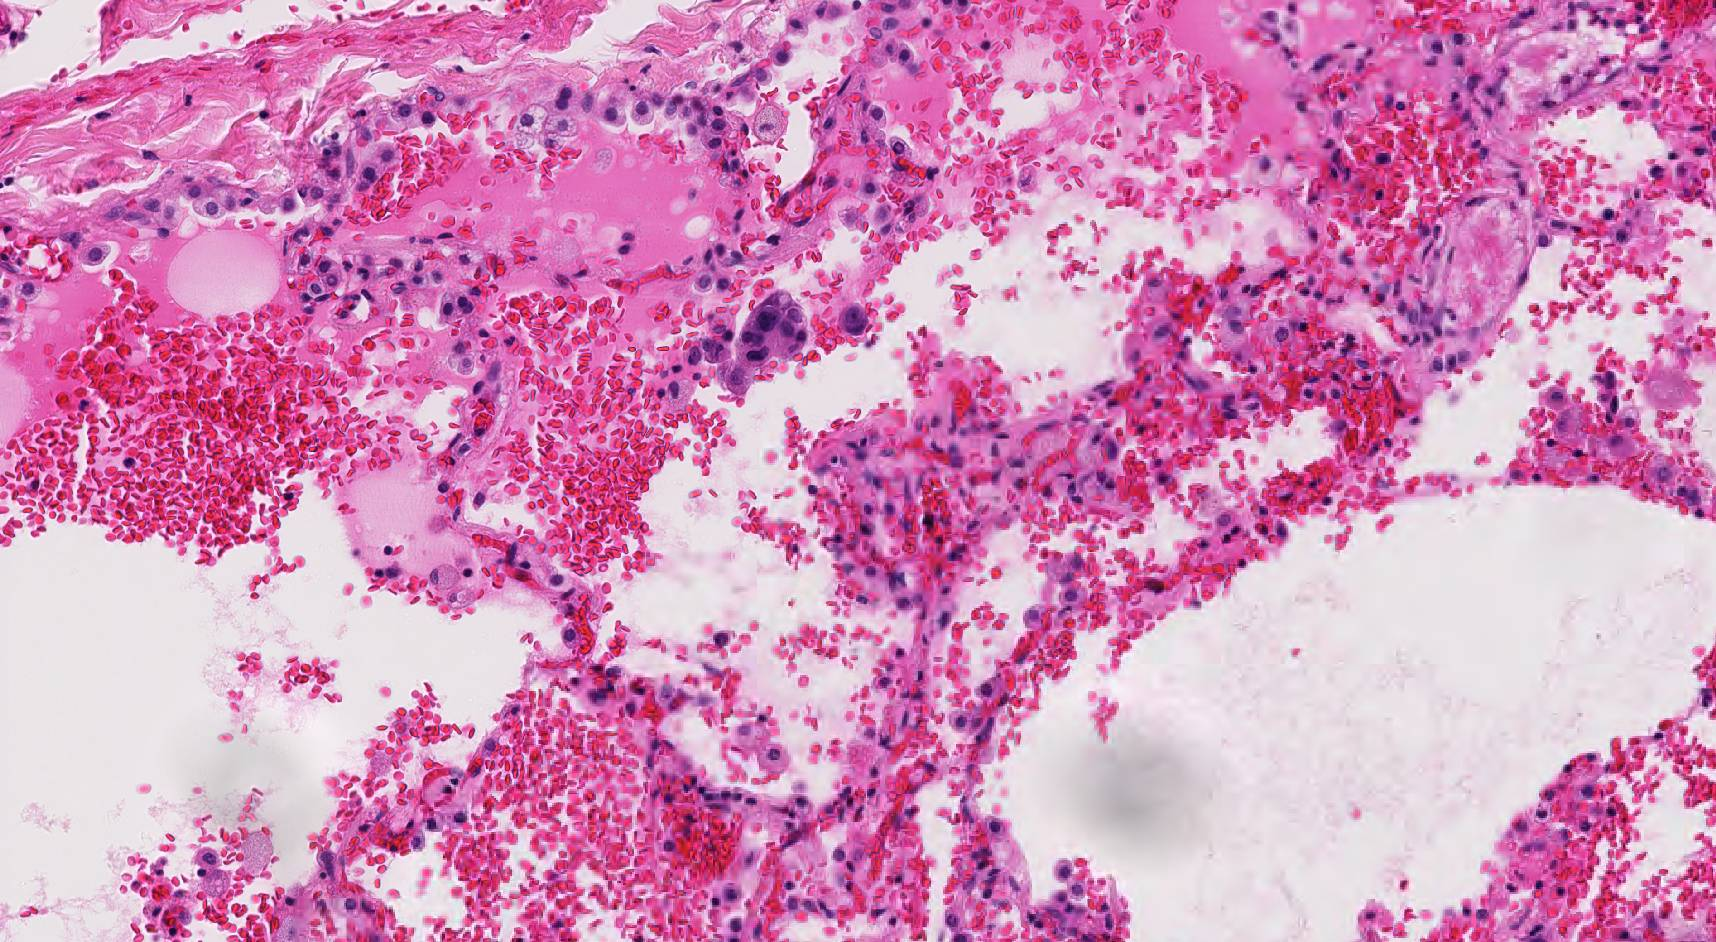stas: (721, 290, 809, 394)
